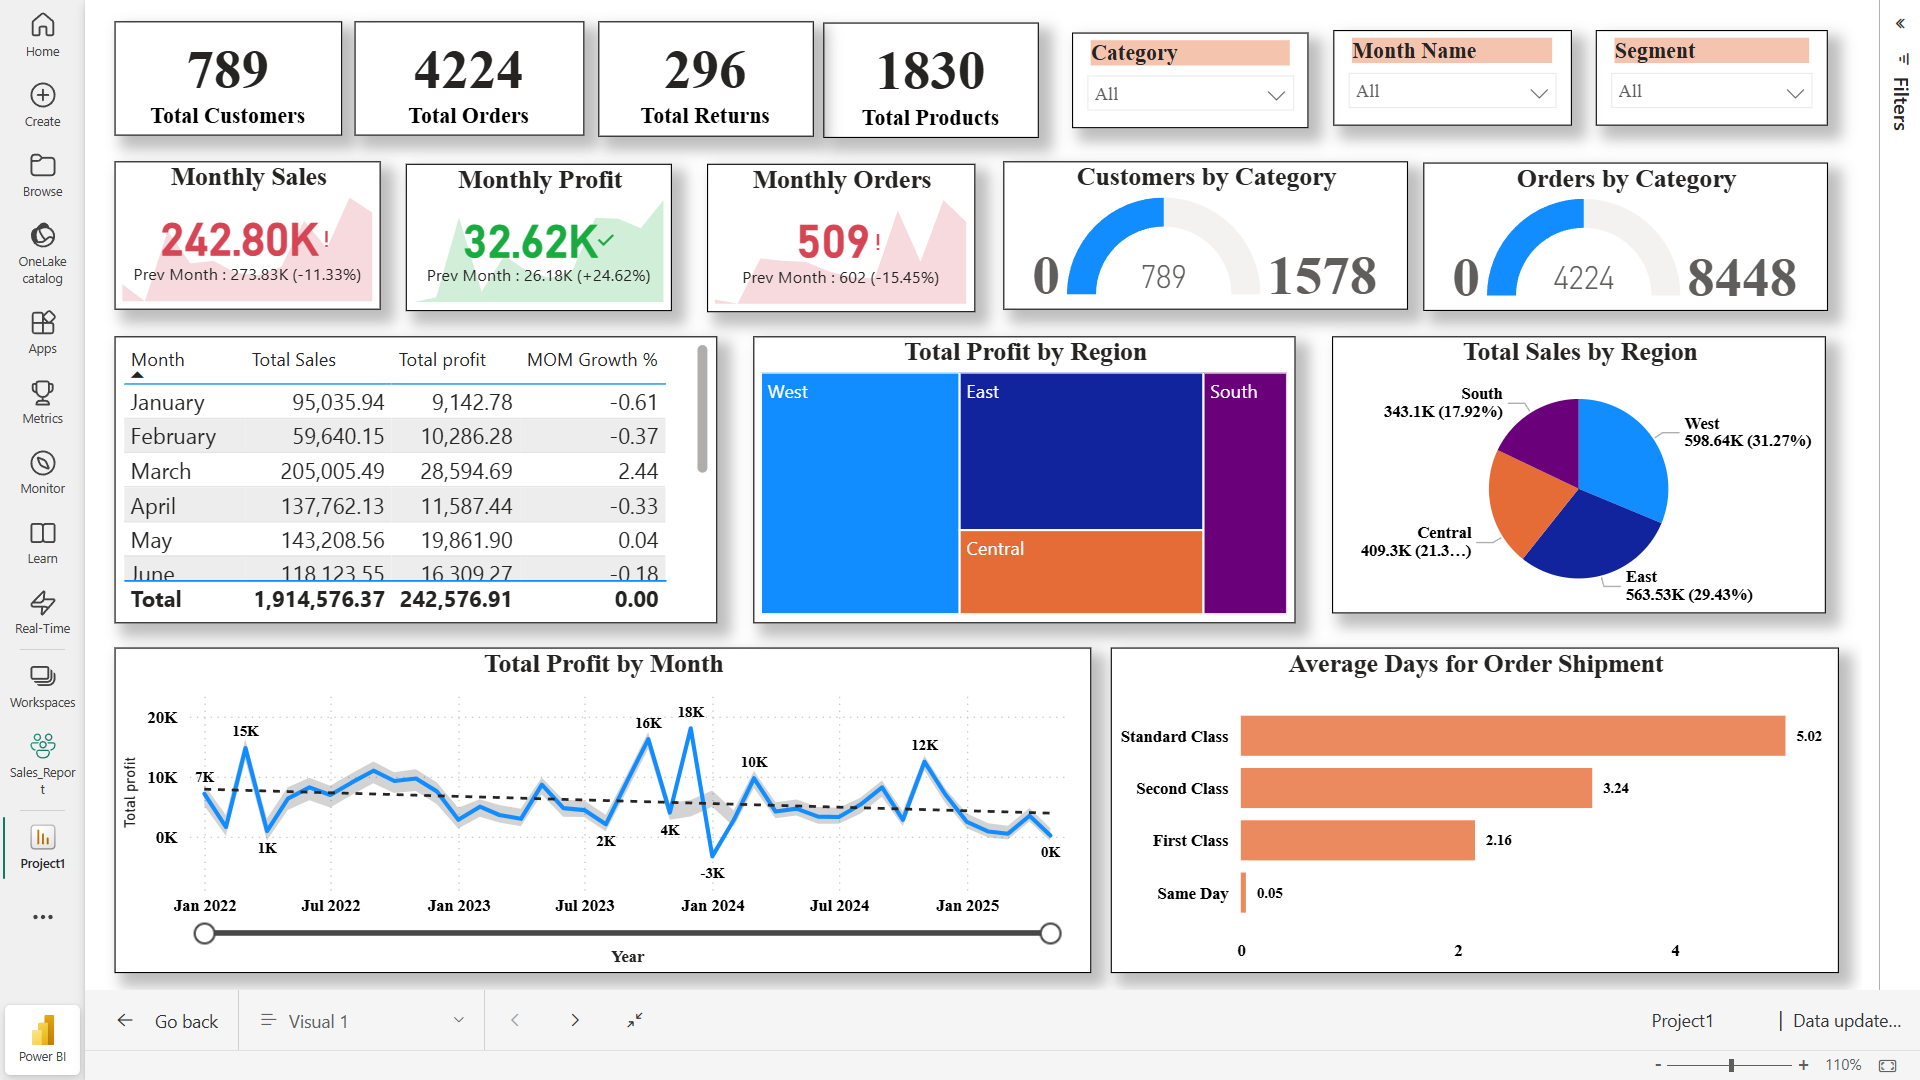

What the dashboard file says about the page in this screenshot:
{"tool":"powerbi","page":{"name":"Visual 1","canvas":[1280,720],"ordinal":0},"visuals":[{"type":"card","fields":{"Values":["Count(Table.Customer ID)"]},"box":[9,15.8,165.7,83.4],"z":0},{"type":"card","fields":{"Values":["Measures Table.Total Orders"]},"box":[183.7,15.8,166.8,83.4],"z":1000},{"type":"card","fields":{"Values":["Measures Table.Total Products"]},"box":[524.4,16.3,157,83.7],"z":2000},{"type":"lineChart","title":"Total Profit by Month","fields":{"Category":["DateTable.Date.Variation.Date Hierarchy.Year","DateTable.Date.Variation.Date Hierarchy.Month"],"Y":["Measures Table.Total profit"]},"box":[9,471.1,710.1,236.7],"z":3000},{"type":"card","fields":{"Values":["Measures Table.Total Returns"]},"box":[360.9,15.1,156.4,83.7],"z":4000},{"type":"treemap","title":"Total Profit by Region","fields":{"Group":["Table.Region"],"Values":["Measures Table.Total profit"]},"box":[482.9,244.4,395.1,208.8],"z":5000},{"type":"kpi","title":"Monthly Sales","fields":{"Indicator":["Measures Table.Total Sales"],"Goal":["Measures Table.Previous_Month_Sales"],"TrendLine":["DateTable.Date.Variation.Date Hierarchy.Month"]},"box":[9,117.2,193.9,108.2],"z":6000},{"type":"kpi","title":"Monthly Orders","fields":{"Indicator":["Measures Table.Total Orders"],"TrendLine":["DateTable.Month Name"],"Goal":["Measures Table.previuos_Month_order"]},"box":[439.6,119.5,195,108.2],"z":7000},{"type":"kpi","title":"Monthly Profit","fields":{"TrendLine":["DateTable.Month Name"],"Indicator":["Measures Table.Total profit"],"Goal":["Measures Table.Previous_Month_Profit"]},"box":[220.9,119.5,193.9,107.1],"z":8000},{"type":"tableEx","title":"Top 10 Customers by Sales","fields":{"Values":["DateTable.Date.Variation.Date Hierarchy.Month","Measures Table.Total Sales","Measures Table.Total profit","Measures Table.MOM Growth %"]},"box":[9,244.6,438.4,208.5],"z":9000},{"type":"slicer","fields":{"Values":["Table.Segment"]},"box":[1086,22.1,168.6,69.8],"z":10000},{"type":"slicer","fields":{"Values":["DateTable.Month Name"]},"box":[895.4,22.1,173.3,69.8],"z":11000},{"type":"slicer","fields":{"Values":["Table.Category"]},"box":[705.8,23.3,172.1,69.8],"z":12000},{"type":"clusteredBarChart","title":"Average Days for Order Shipment","fields":{"Category":["Table.Ship Mode"],"Y":["Avg(Table.Processing Time)"]},"box":[733.8,471.1,529.7,236.7],"z":13000},{"type":"pieChart","title":"Total Sales by Region","fields":{"Category":["Table.Region"],"Y":["Measures Table.Total Sales"]},"box":[894.9,244.6,359.6,201.8],"z":14000},{"type":"gauge","title":"Customers by Category","fields":{"Y":["Measures Table.Total Customers"]},"box":[655.8,117.4,294.2,108.1],"z":15000},{"type":"gauge","title":"Orders by Category","fields":{"Y":["Measures Table.Total Orders"]},"box":[960.5,118.6,294.2,108.1],"z":16000}]}

Visuals, with their boxes on the page's 1280x720 design canvas (x1, y1, x2, y2). These are canvas units, not pixel positions in the 1920x1080 screenshot, which may show the page scaled, cropped or inside an application window:
card - Count(Table.Customer ID): (left=9, top=16, right=175, bottom=99)
card - Measures Table.Total Orders: (left=184, top=16, right=350, bottom=99)
card - Measures Table.Total Products: (left=524, top=16, right=681, bottom=100)
"Total Profit by Month" lineChart: (left=9, top=471, right=719, bottom=708)
card - Measures Table.Total Returns: (left=361, top=15, right=517, bottom=99)
"Total Profit by Region" treemap: (left=483, top=244, right=878, bottom=453)
"Monthly Sales" kpi: (left=9, top=117, right=203, bottom=225)
"Monthly Orders" kpi: (left=440, top=120, right=635, bottom=228)
"Monthly Profit" kpi: (left=221, top=120, right=415, bottom=227)
"Top 10 Customers by Sales" tableEx: (left=9, top=245, right=447, bottom=453)
slicer - Table.Segment: (left=1086, top=22, right=1255, bottom=92)
slicer - DateTable.Month Name: (left=895, top=22, right=1069, bottom=92)
slicer - Table.Category: (left=706, top=23, right=878, bottom=93)
"Average Days for Order Shipment" clusteredBarChart: (left=734, top=471, right=1264, bottom=708)
"Total Sales by Region" pieChart: (left=895, top=245, right=1254, bottom=446)
"Customers by Category" gauge: (left=656, top=117, right=950, bottom=226)
"Orders by Category" gauge: (left=960, top=119, right=1255, bottom=227)
